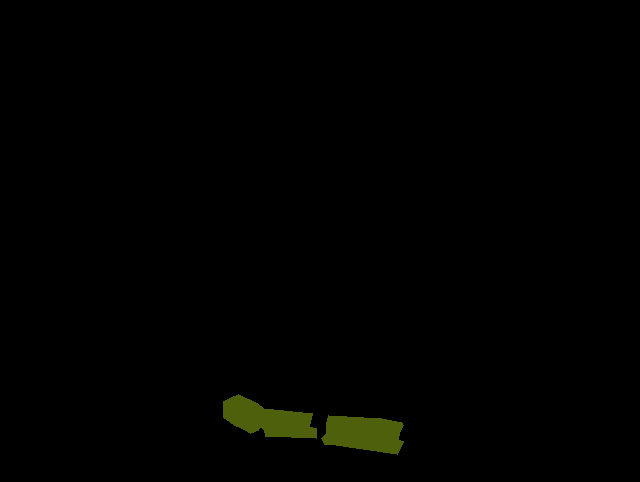Train: (223, 394, 404, 455)
